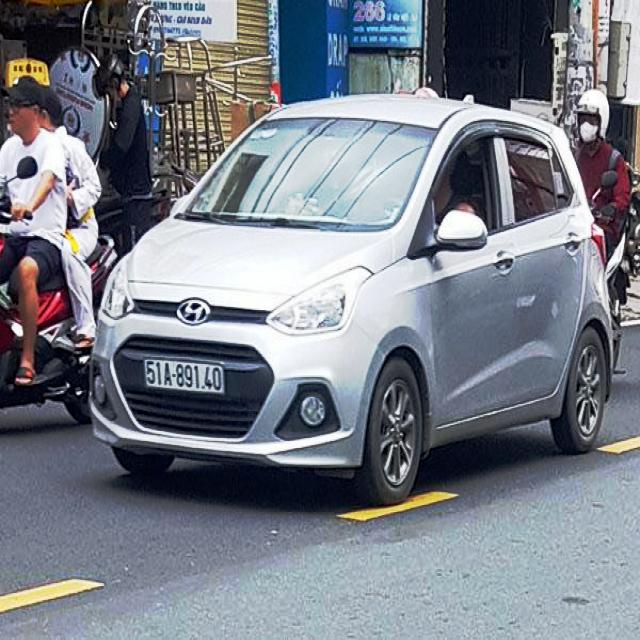license_plate: (144, 359, 225, 395)
